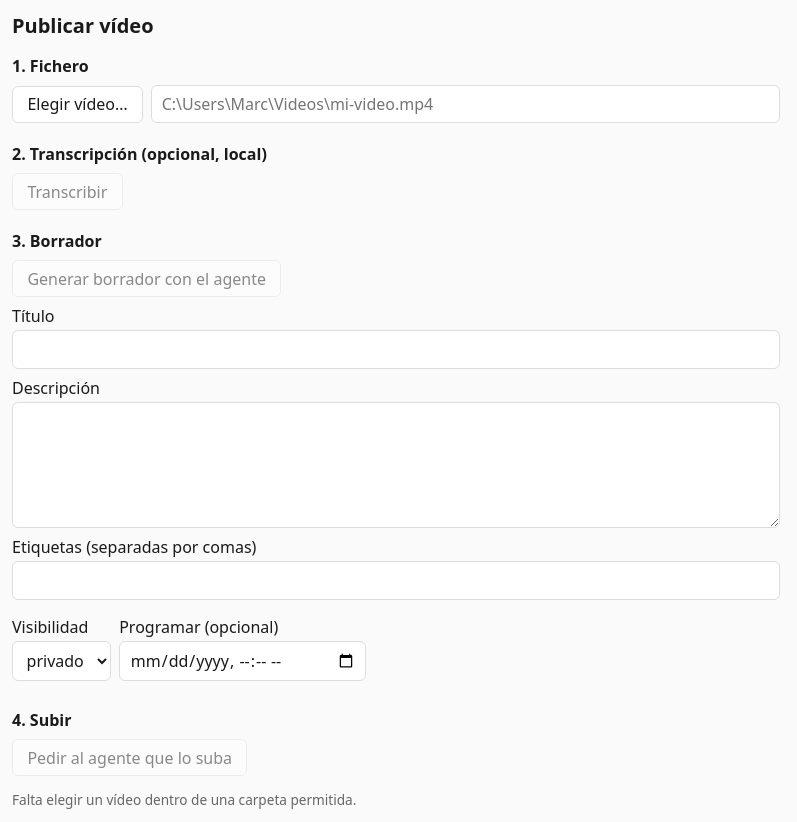
Scenario: PublicarScreen › Elegir vídeo… abre el diálogo en la primera carpeta permitida y rellena la ruta
Expected: the text with test id "publicar-subir-motivo" shows "Falta elegir un vídeo", x1=12 y1=790 x2=356 y2=809
Click the button with test id "publicar-elegir": (78, 104) x1=12 y1=86 x2=143 y2=123
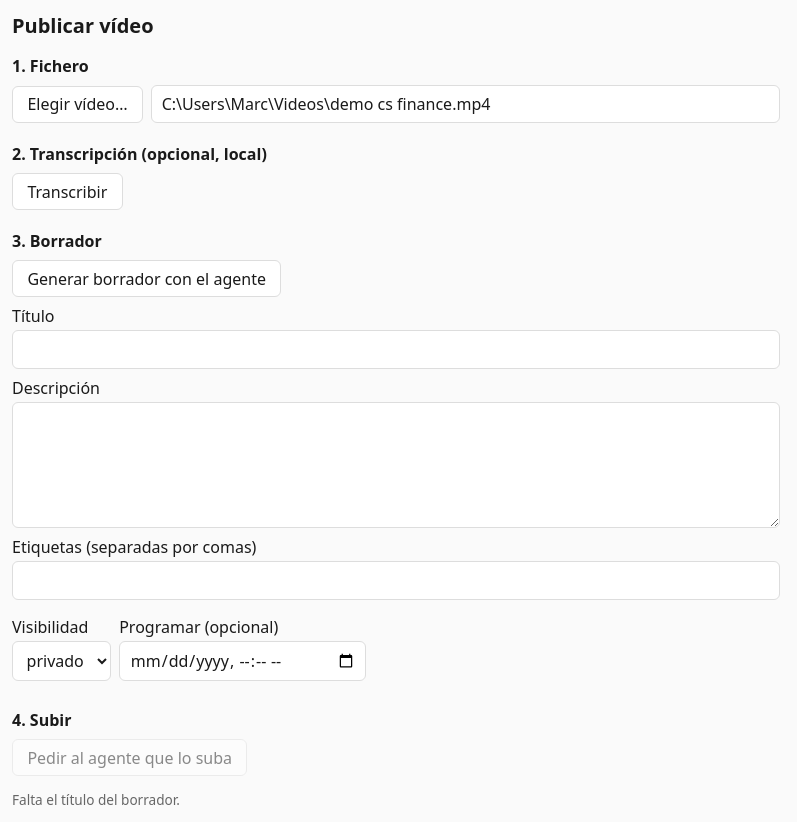
Now the field with test id "publicar-path" holds "C:\\Users\\Marc\\Videos\\demo cs finance.mp4", box x1=151 y1=85 x2=780 y2=123
Now the button with test id "publicar-transcribir" is enabled, box x1=12 y1=173 x2=123 y2=210
Now the text with test id "publicar-subir-motivo" reads "Falta el título del borrador.", box x1=12 y1=790 x2=180 y2=809
In the field with test id "borrador-title": (396, 349) x1=12 y1=330 x2=780 y2=368, type "Demo"
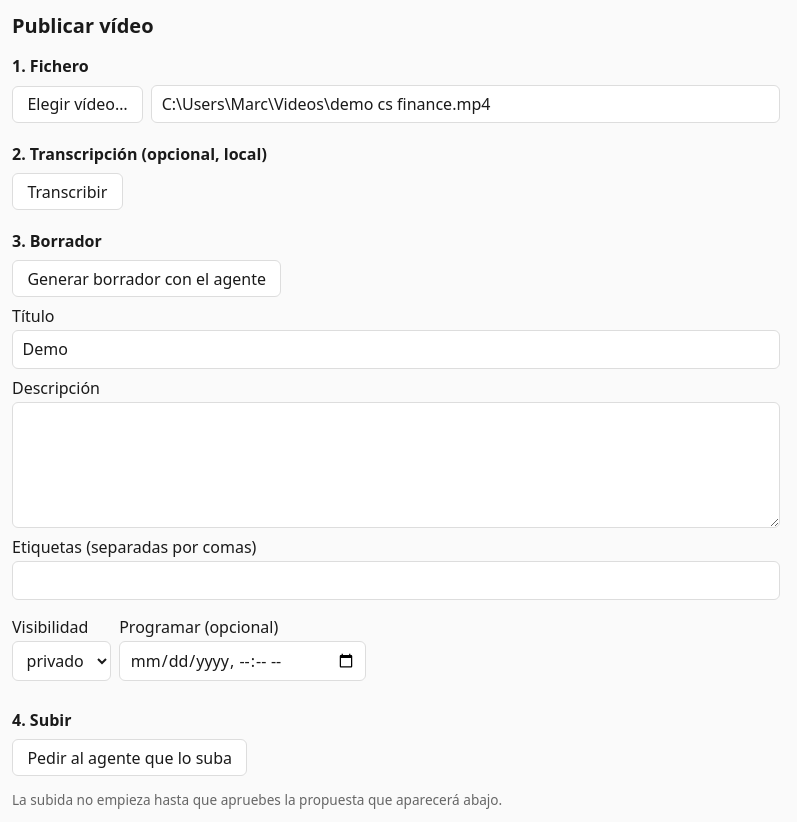
Now the button with test id "publicar-subir" is enabled, box x1=12 y1=739 x2=247 y2=776
Now the text with test id "publicar-subir-motivo" is gone
